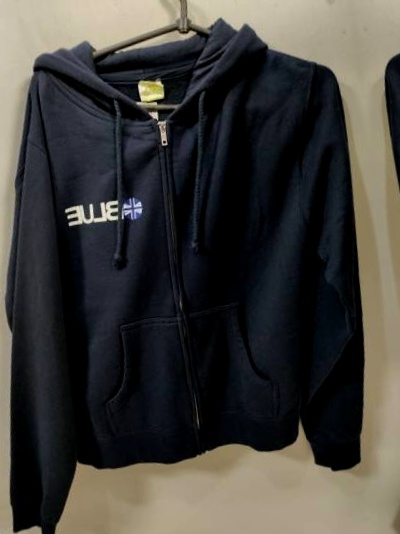Hoodie: (0, 0, 400, 534), (354, 0, 400, 494), (0, 51, 7, 534)
